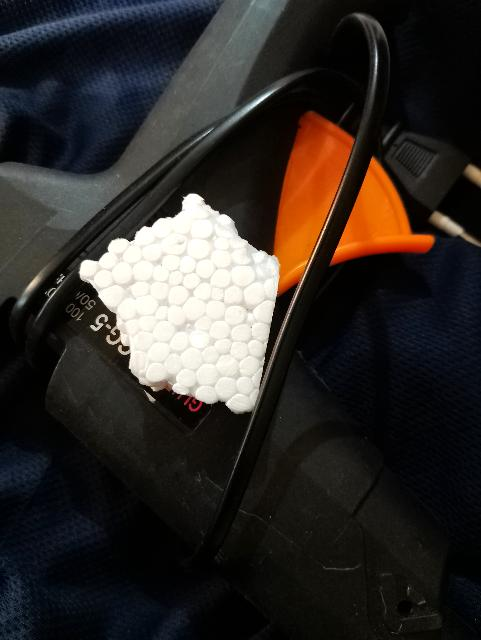cocksheet: (92, 210, 278, 403)
